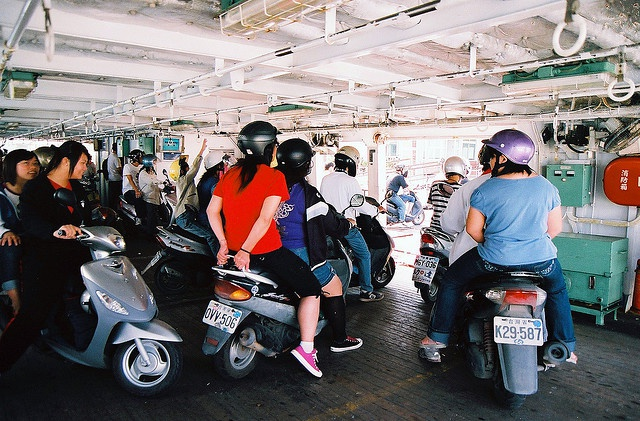non-vehicle: (201, 192, 363, 380), (38, 225, 183, 396), (462, 270, 570, 409), (338, 188, 395, 293), (140, 222, 214, 300), (118, 167, 178, 228), (411, 225, 455, 304), (77, 174, 117, 224), (386, 189, 424, 224)
